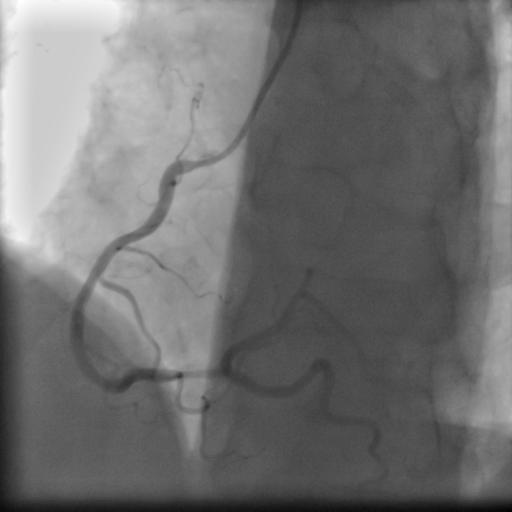Stenosis: (172, 363, 221, 384)
